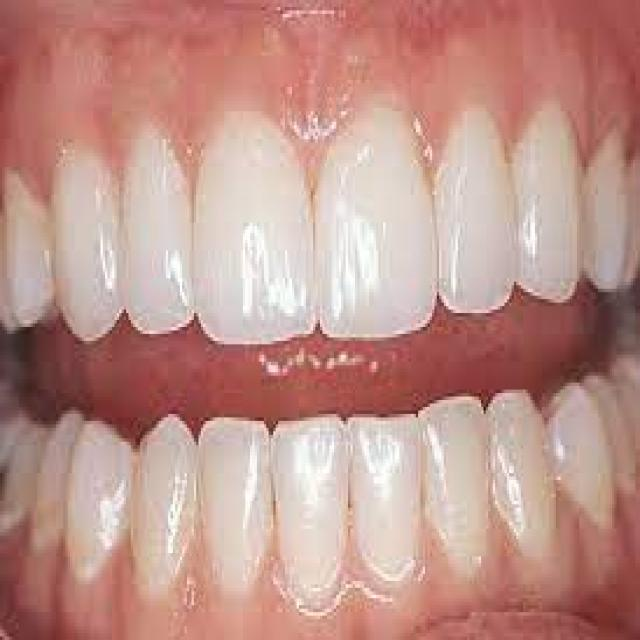tooth: (313, 104, 430, 330), (208, 112, 306, 344), (269, 414, 348, 602), (439, 104, 509, 310), (124, 125, 194, 324), (420, 396, 493, 584), (52, 146, 126, 331), (350, 417, 425, 588), (521, 94, 574, 299), (203, 417, 266, 588), (490, 386, 549, 557), (140, 417, 194, 567), (551, 376, 605, 518), (5, 177, 51, 327), (75, 435, 124, 546), (589, 118, 619, 292), (607, 372, 638, 491), (621, 136, 640, 282), (12, 424, 40, 515), (47, 414, 65, 529)
